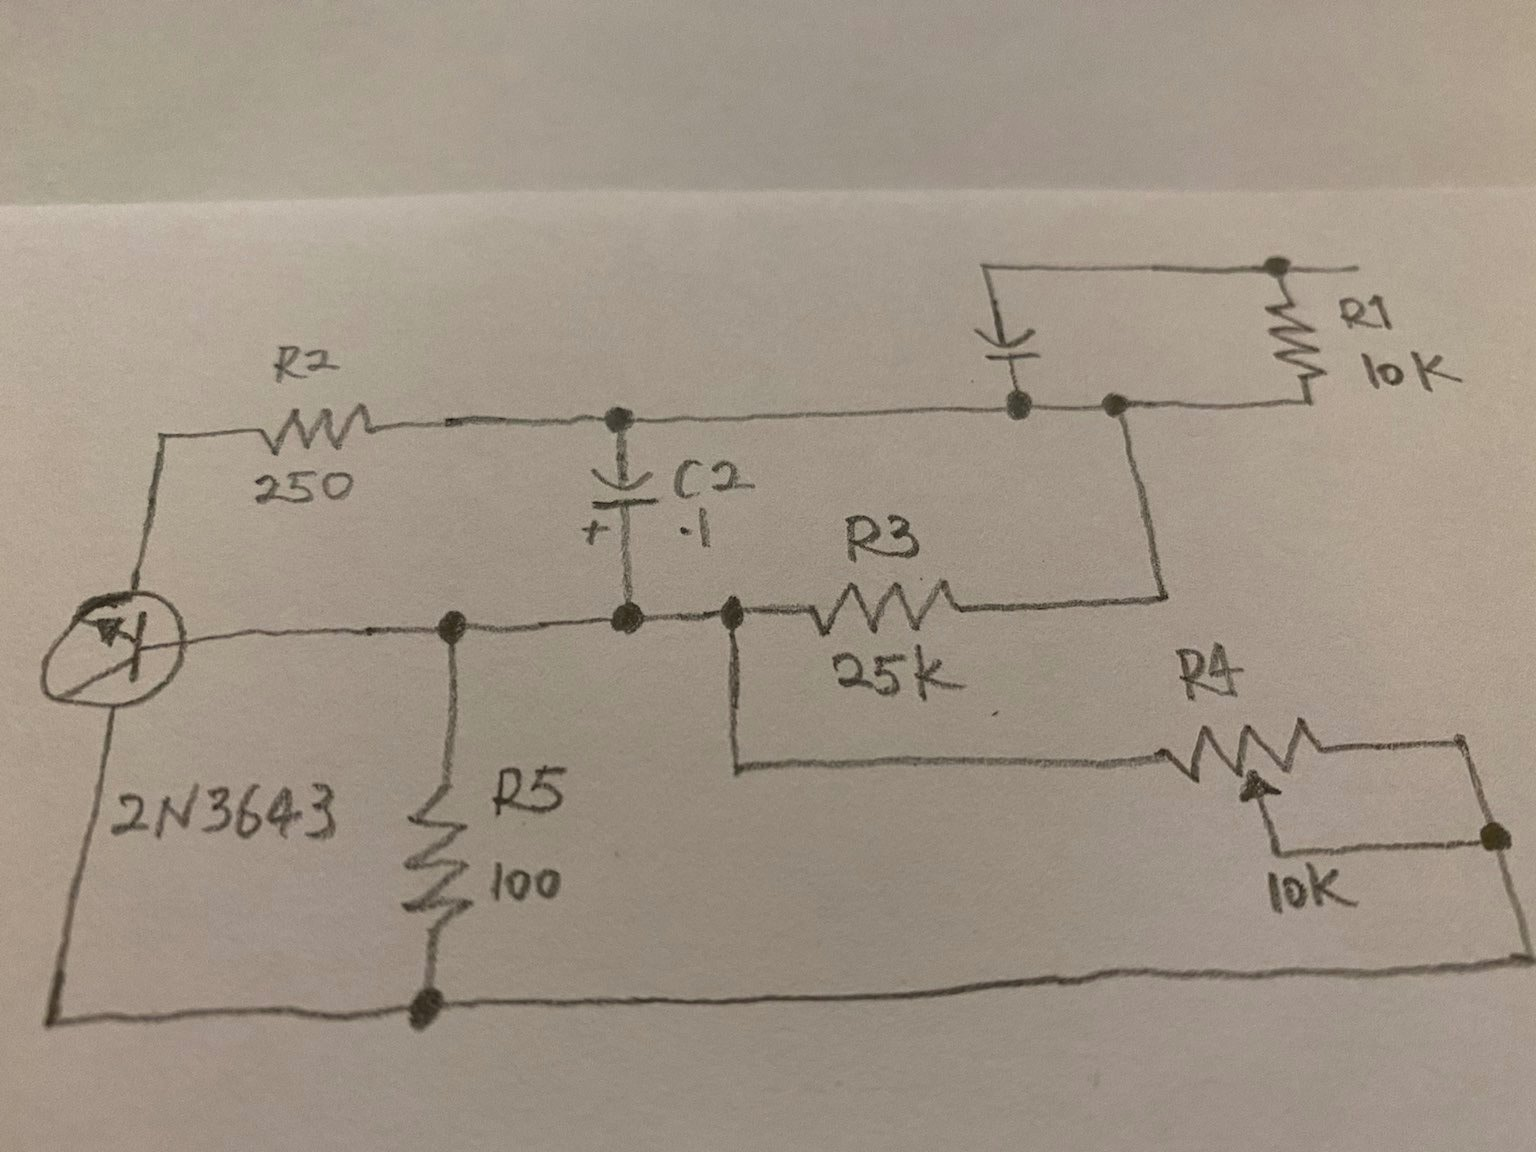capacitor.polarized: (578, 466, 662, 547)
capacitor.unpolarized: (964, 316, 1063, 371)
junction: (385, 970, 461, 1054), (417, 597, 486, 658), (705, 738, 767, 797), (25, 989, 89, 1046), (601, 584, 656, 649), (706, 582, 763, 643), (1469, 807, 1521, 868), (587, 390, 646, 442), (1090, 381, 1148, 433), (1131, 568, 1188, 618), (1253, 240, 1304, 290), (993, 381, 1043, 427), (1497, 923, 1536, 981), (1439, 715, 1489, 760), (140, 415, 189, 457), (968, 246, 1011, 286), (1290, 388, 1326, 417), (1268, 845, 1288, 862)
resistor: (395, 776, 478, 954), (796, 578, 976, 639), (252, 401, 389, 457), (1255, 295, 1333, 382)
resistor.adjustable: (1156, 712, 1330, 807)
terminal: (1332, 250, 1384, 280)
text: (110, 781, 337, 854), (826, 645, 981, 705), (1257, 862, 1368, 920), (1355, 345, 1469, 399), (487, 754, 573, 824), (1167, 637, 1251, 705), (835, 507, 928, 566), (487, 858, 576, 918), (252, 463, 362, 512), (666, 448, 760, 503), (258, 330, 347, 386), (1336, 288, 1398, 339), (674, 505, 727, 554)
transistor: (27, 580, 203, 720)
